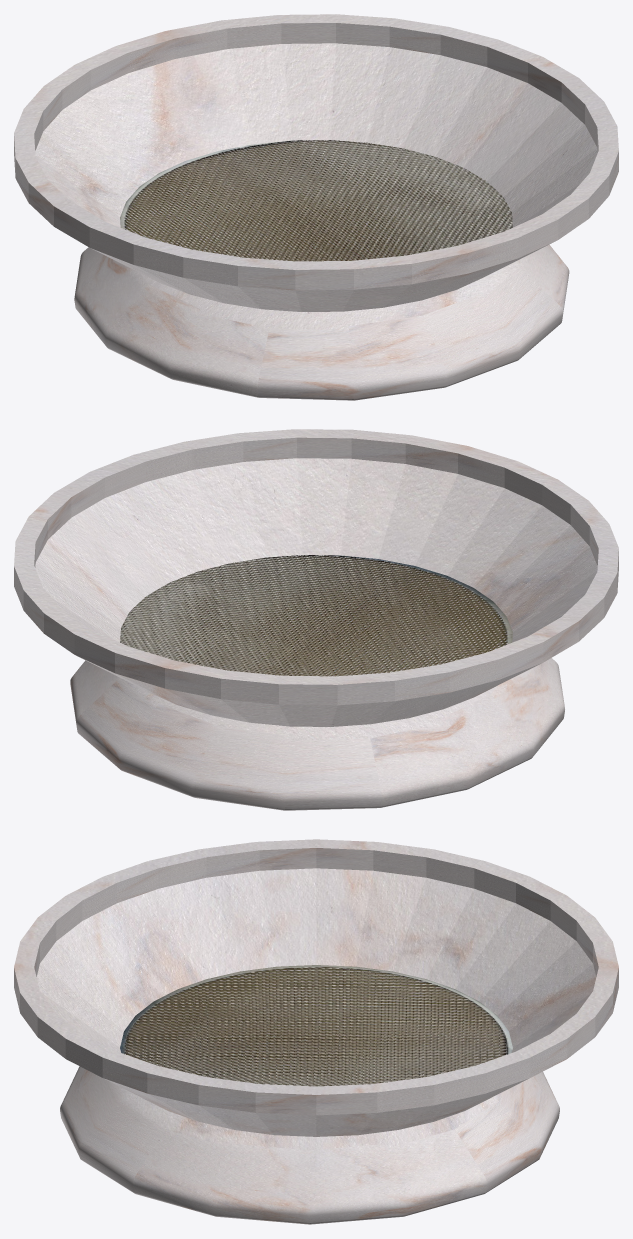
3 renders of one model, top to bottom at view 1: azimuth 30°, elevation 25°; view 2: azimuth 150°, elevation 25°; view 3: azimuth 270°, elevation 25°, orthographic.
Visible parts, largest first — view 1: Circle001, Line002, Line001; view 2: Circle001, Line002, Line001; view 3: Circle001, Line002, Line001.
Boxes of the visible parts, x1,y1,x2,y2 form: Circle001: (14,14,618,311); Line002: (74,244,569,400); Line001: (120,140,512,261); Circle001: (14,429,618,726); Line002: (70,658,564,810); Line001: (120,555,512,676); Circle001: (14,839,618,1136); Line002: (60,1066,559,1224); Line001: (120,965,512,1086).
Size of the model in its own units: 201 by 62.43 by 201.
2 materials, 2 textured.
